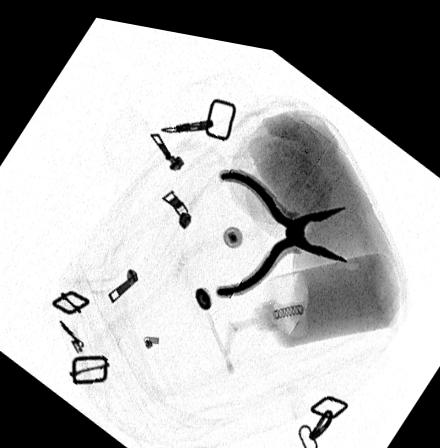Pliers: (213, 158, 348, 288)
